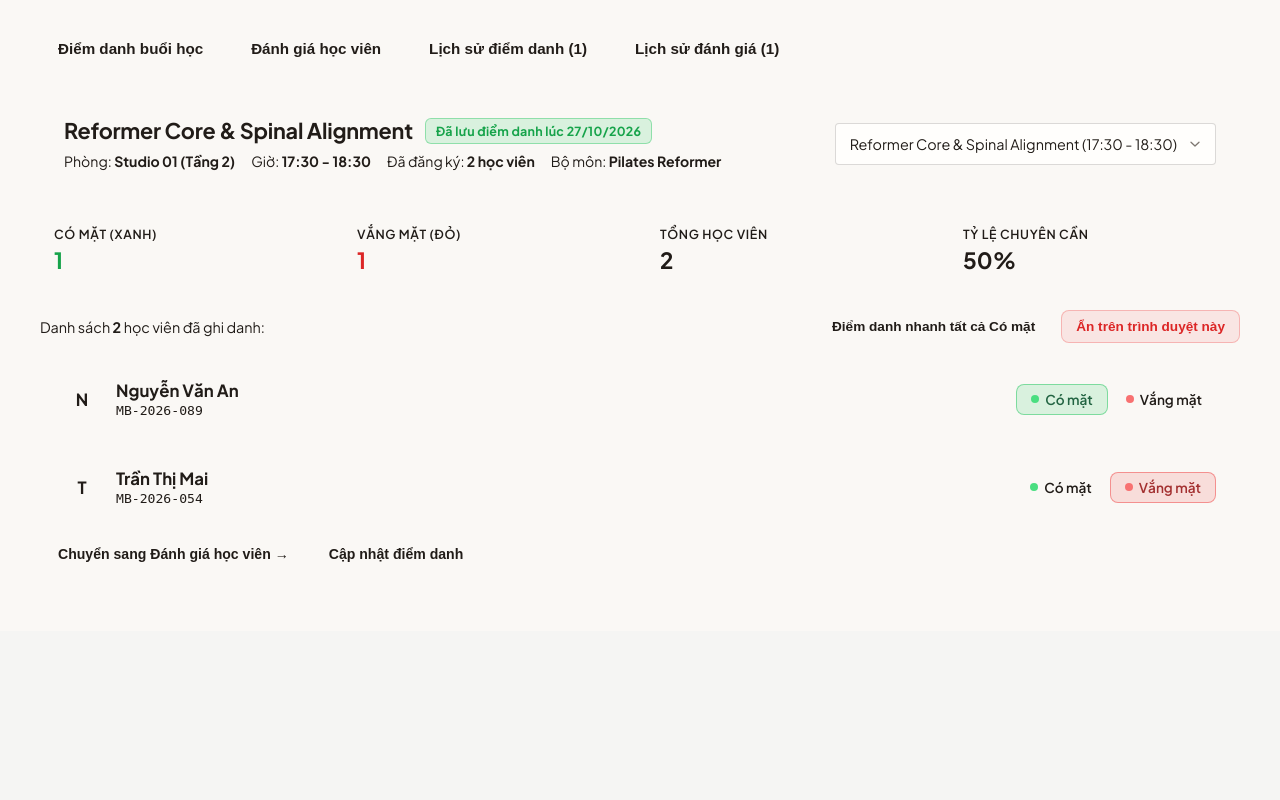
Test: CoachAttendancePage (SCRUM-123: HLV Điểm danh, Đánh giá & Lịch sử sửa trực tiếp bằng Modal) › clicking Sửa điểm danh in History opens Modal directly in center without switching tabs
The image size is (1280, 800).
// Switch to tab "Lịch sử điểm danh"
Click the button with class "attendance-tab-btn" showing "Lịch sử điểm danh (1)" at (508, 48), box [411, 32, 605, 65]
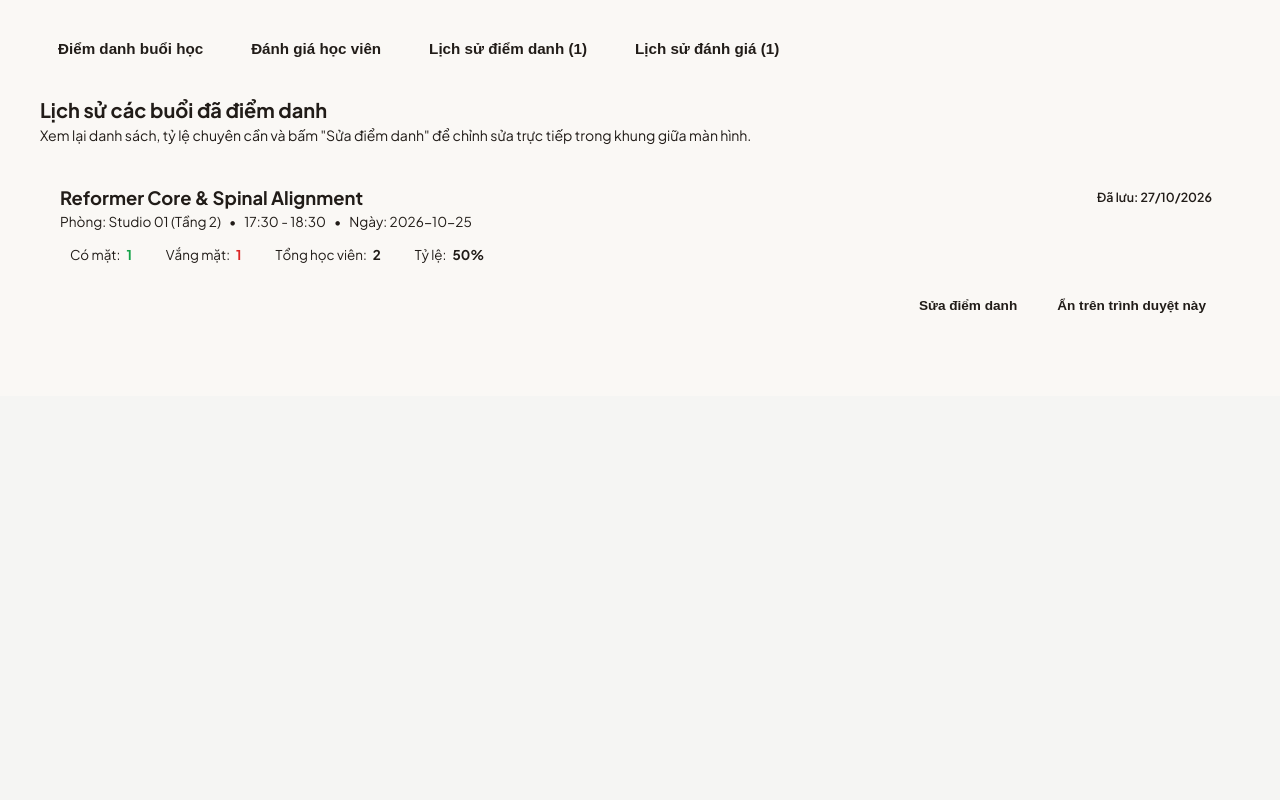
Expected: the text "Lịch sử các buổi đã điểm danh" is shown, [40, 97, 327, 122]
Expected: the button with class "btn-history-edit" is shown
// Click "Sửa điểm danh"
Click the button with class "btn-history-edit" at (968, 306), box [903, 291, 1033, 320]
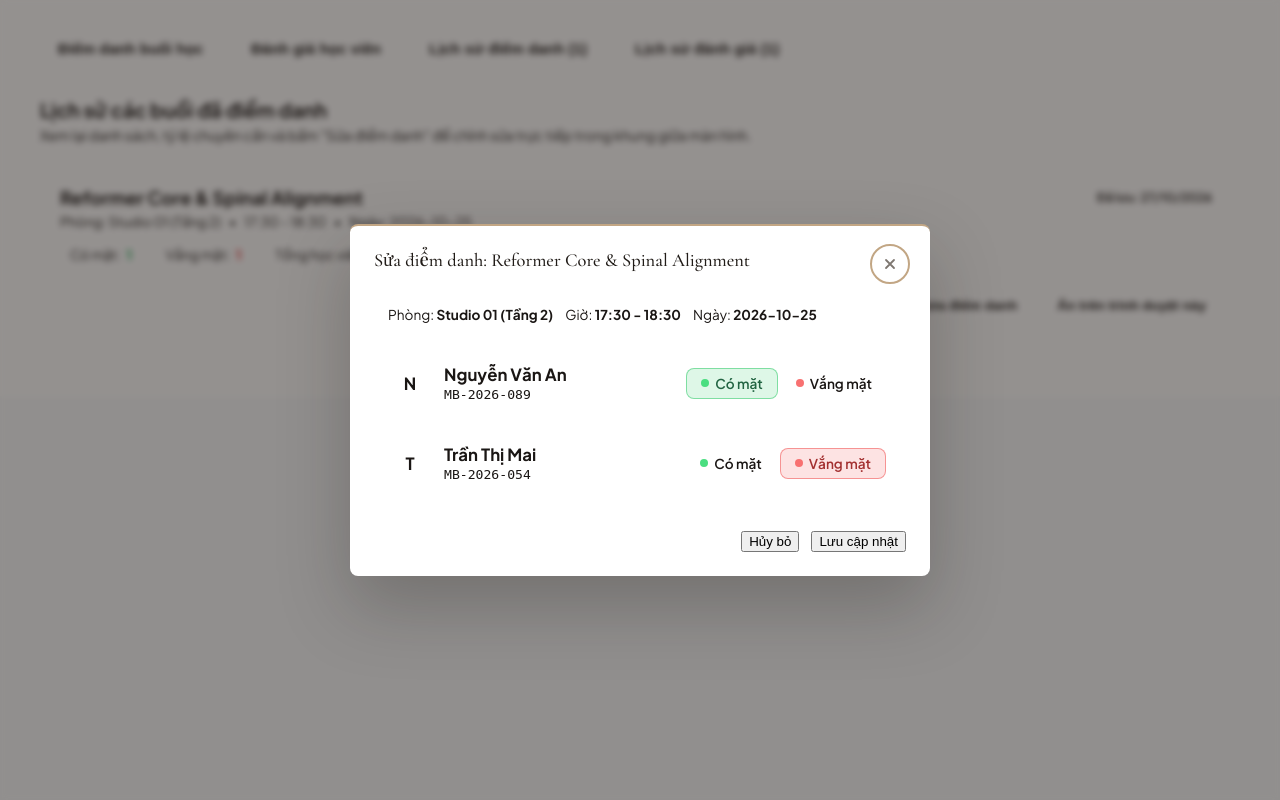
Expected: the text "Sửa điểm danh: Reformer Core & Spinal Alignment" is shown, [374, 249, 750, 271]
Expected: the element with class "modal-edit-container" is shown, [374, 296, 906, 552]
Expected: the element with class "modal-student-edit-item" that starts with "Nguyễn Văn An" is shown, [404, 364, 872, 402]
Click the button with class "btn-modal-save" at (859, 542), box [811, 531, 906, 552]
Wait 50 ms
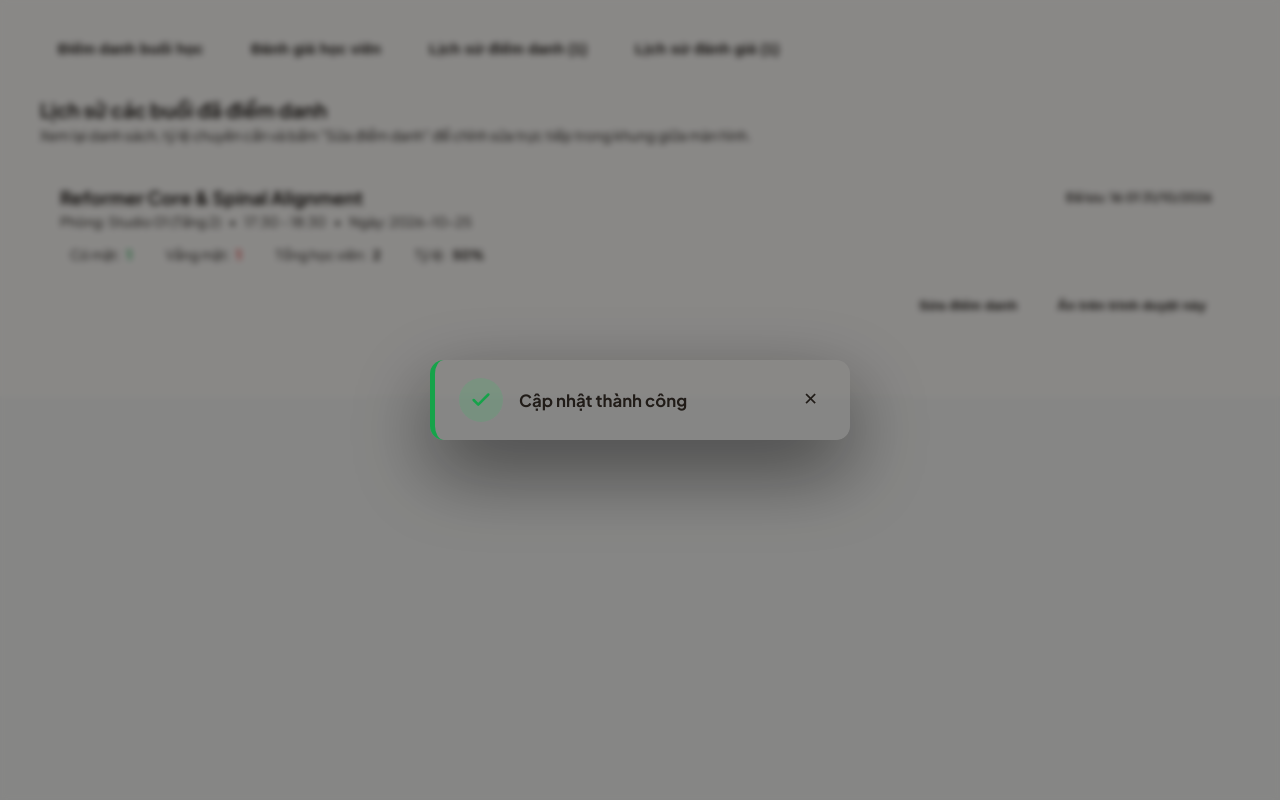
Expected: the heading with class "center-toast-title" reads "Cập nhật thành công", [519, 390, 687, 410]
Expected: the element with class "modal-edit-container" is gone
